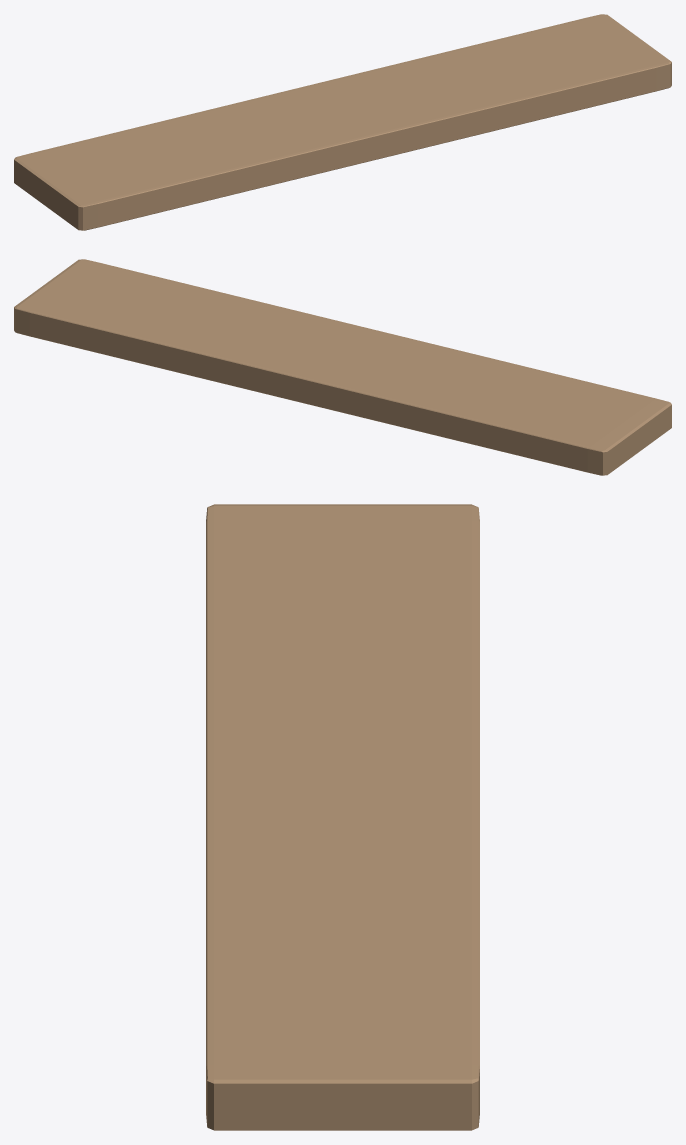
File: dock_planke_lod0.fbx
3 renders of one model, top to bottom at view 1: azimuth 30°, elevation 25°; view 2: azimuth 150°, elevation 25°; view 3: azimuth 270°, elevation 25°, orthographic. The views are drawn at different scales.
Parts seen in each view (by area): view 1: Cube; view 2: Cube; view 3: Cube.
Boxes of the visible parts, <box> form: Cube: <box>14,14,671,230</box>; Cube: <box>14,259,671,475</box>; Cube: <box>206,504,479,1130</box>.
Bounding box in the file's own units: 5 × 0.2 × 1.
